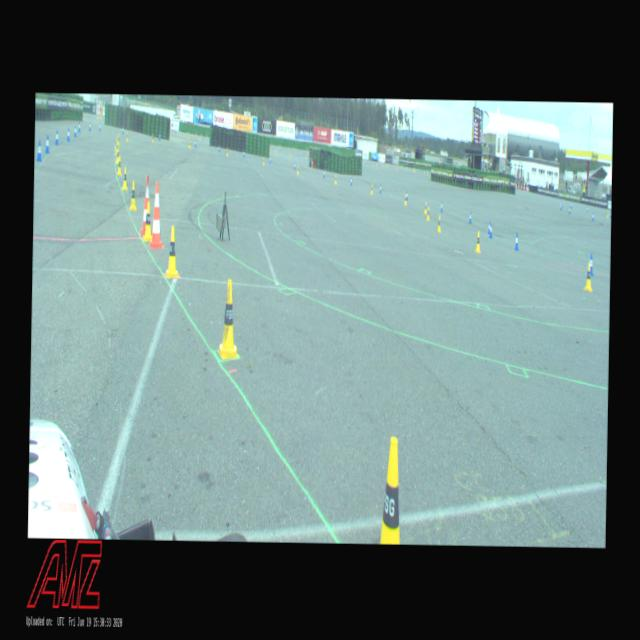blue_cone: (36, 139, 42, 161), (44, 134, 50, 152), (590, 253, 594, 276), (514, 232, 518, 250), (488, 222, 492, 238), (468, 211, 472, 223), (55, 130, 58, 144), (66, 128, 69, 141), (488, 220, 490, 233), (440, 200, 442, 212), (74, 125, 76, 136), (78, 122, 80, 132), (88, 121, 90, 130), (98, 122, 100, 130), (158, 132, 160, 140), (406, 190, 407, 200)
large_orange_cone: (146, 180, 166, 248), (140, 175, 149, 234)
yellow_cone: (379, 436, 402, 544), (218, 278, 240, 359), (164, 226, 180, 278), (142, 202, 152, 240), (583, 262, 593, 291), (128, 180, 137, 210), (121, 166, 128, 189), (474, 230, 480, 252), (116, 155, 122, 175), (436, 215, 441, 232), (426, 207, 430, 220), (115, 147, 118, 163), (403, 192, 406, 205), (424, 202, 427, 214), (152, 133, 154, 142), (126, 132, 128, 140)
